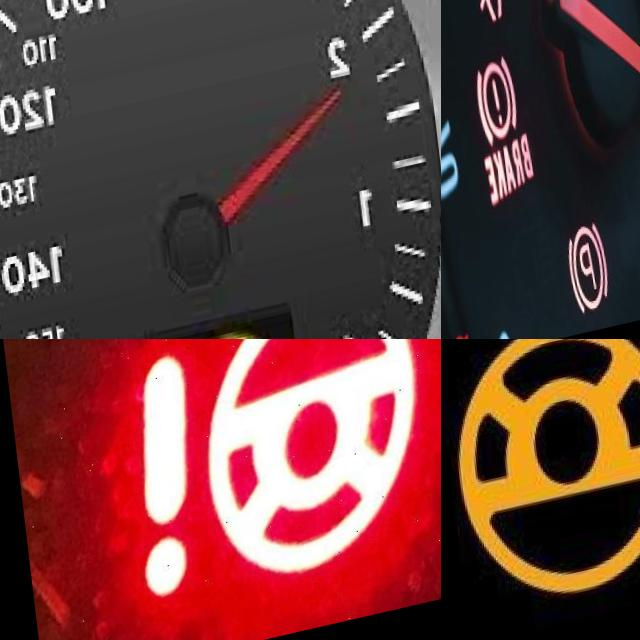Electronic Power Steering: (441, 339, 640, 620)
Electronic Power Steering Warning: (105, 339, 419, 613)
Seat Belt: (467, 0, 497, 31)
